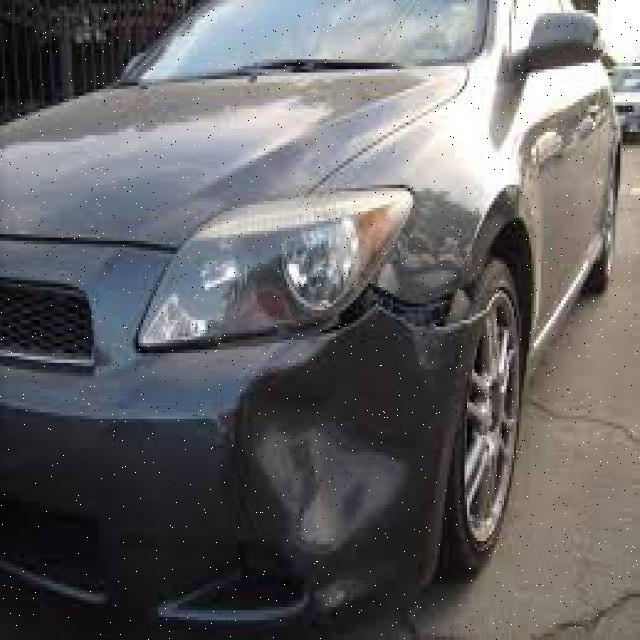front-bumper-dent: (139, 271, 502, 637)
